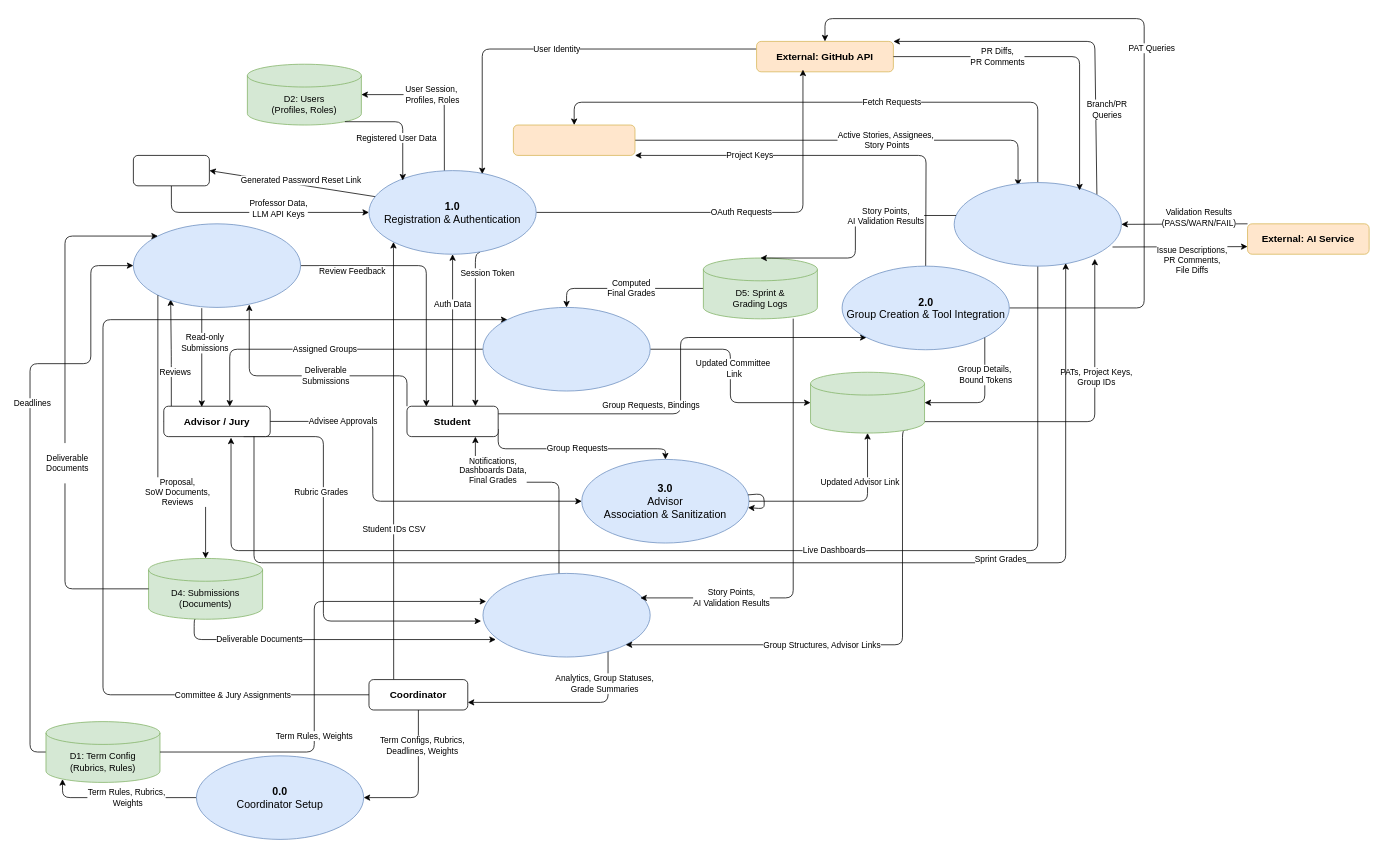
Image size: 1382x853. Some labels were removed from this diagram. The centre of each missing label's shape, as x and y in pixels:
"4.0 Committee Assignment" goes at point (566, 349).
"5.0 Sprint Tracking, Scrum Grading & AI Validation" goes at point (1037, 224).
"6.0 DeliverableSubmission & Review" goes at point (217, 265).
"7 .0 Grading & Final Calculation" goes at point (566, 615).
"Admin" goes at point (171, 170).
"D3: Groups & Committees" goes at point (867, 402).
"External: JIRA API" goes at point (574, 139).
